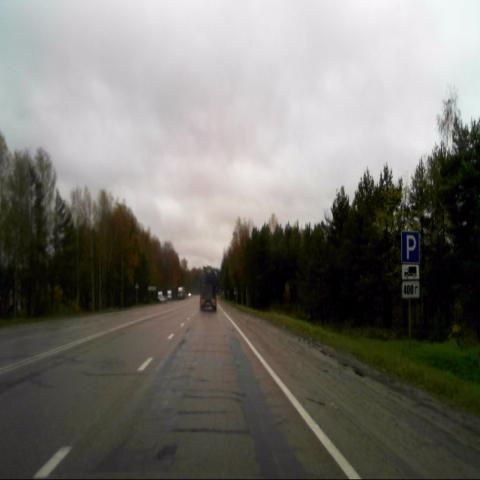8_4_1: (401, 265, 420, 281)
